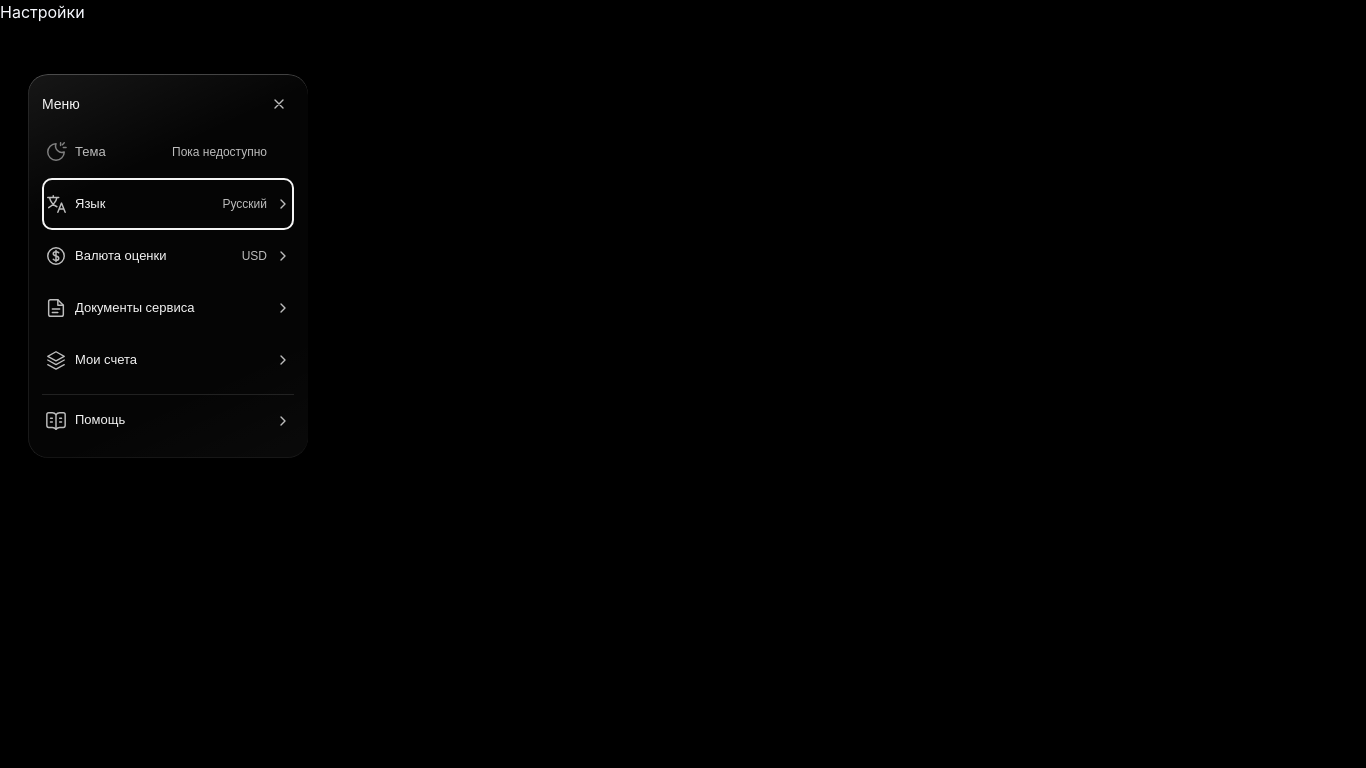
Test: opens accounts from the anchored menu while skipping disabled theme for initial focus
expect the button "Тема Пока недоступно" is disabled: met, box x1=42 y1=126 x2=294 y2=178
Click the button "Мои счета".
click(168, 360)  # box x1=42 y1=334 x2=294 y2=386
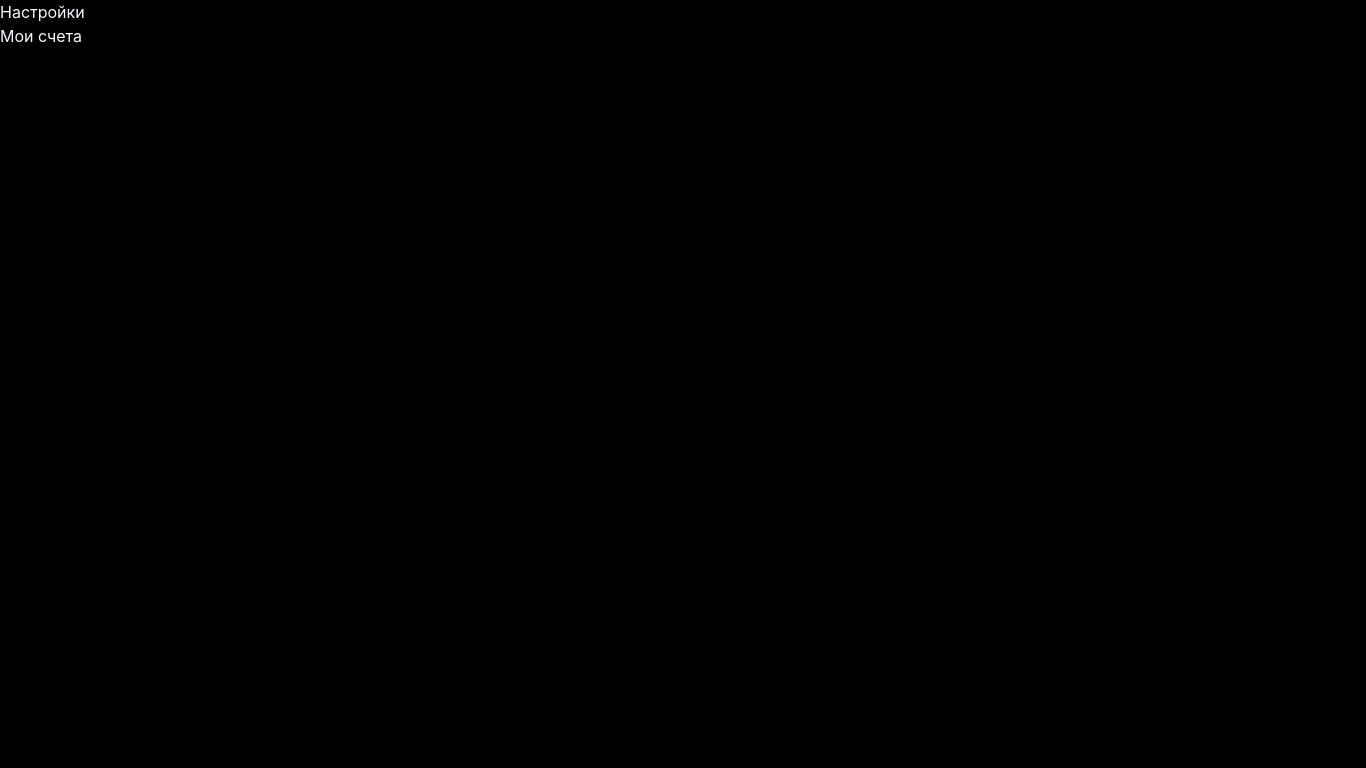
expect the heading "Мои счета" is shown: met, box x1=0 y1=26 x2=82 y2=46
expect the heading "Меню" is gone: met
